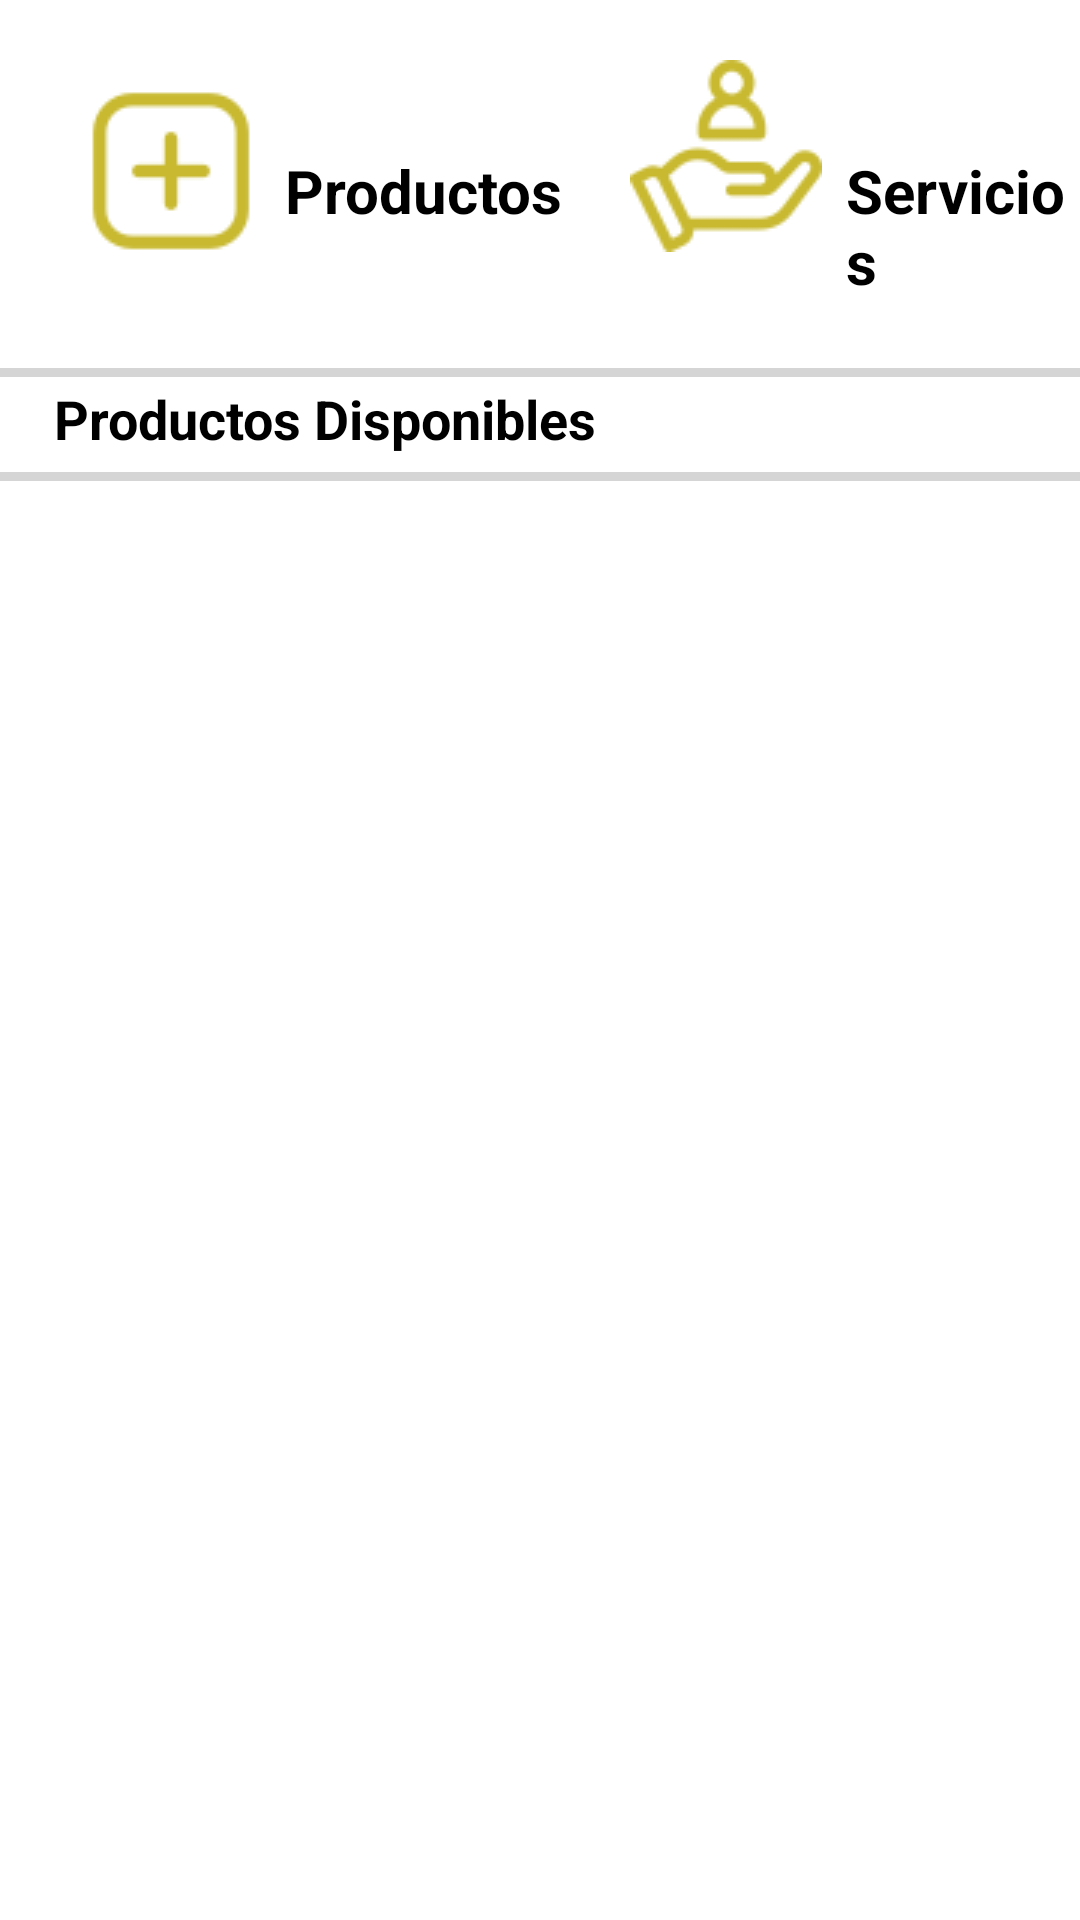

Screen size 1080w x 1920h. Icon name, then its box in pixels as (x1, y1, x2, y2):
mas: (92, 92, 250, 250)
